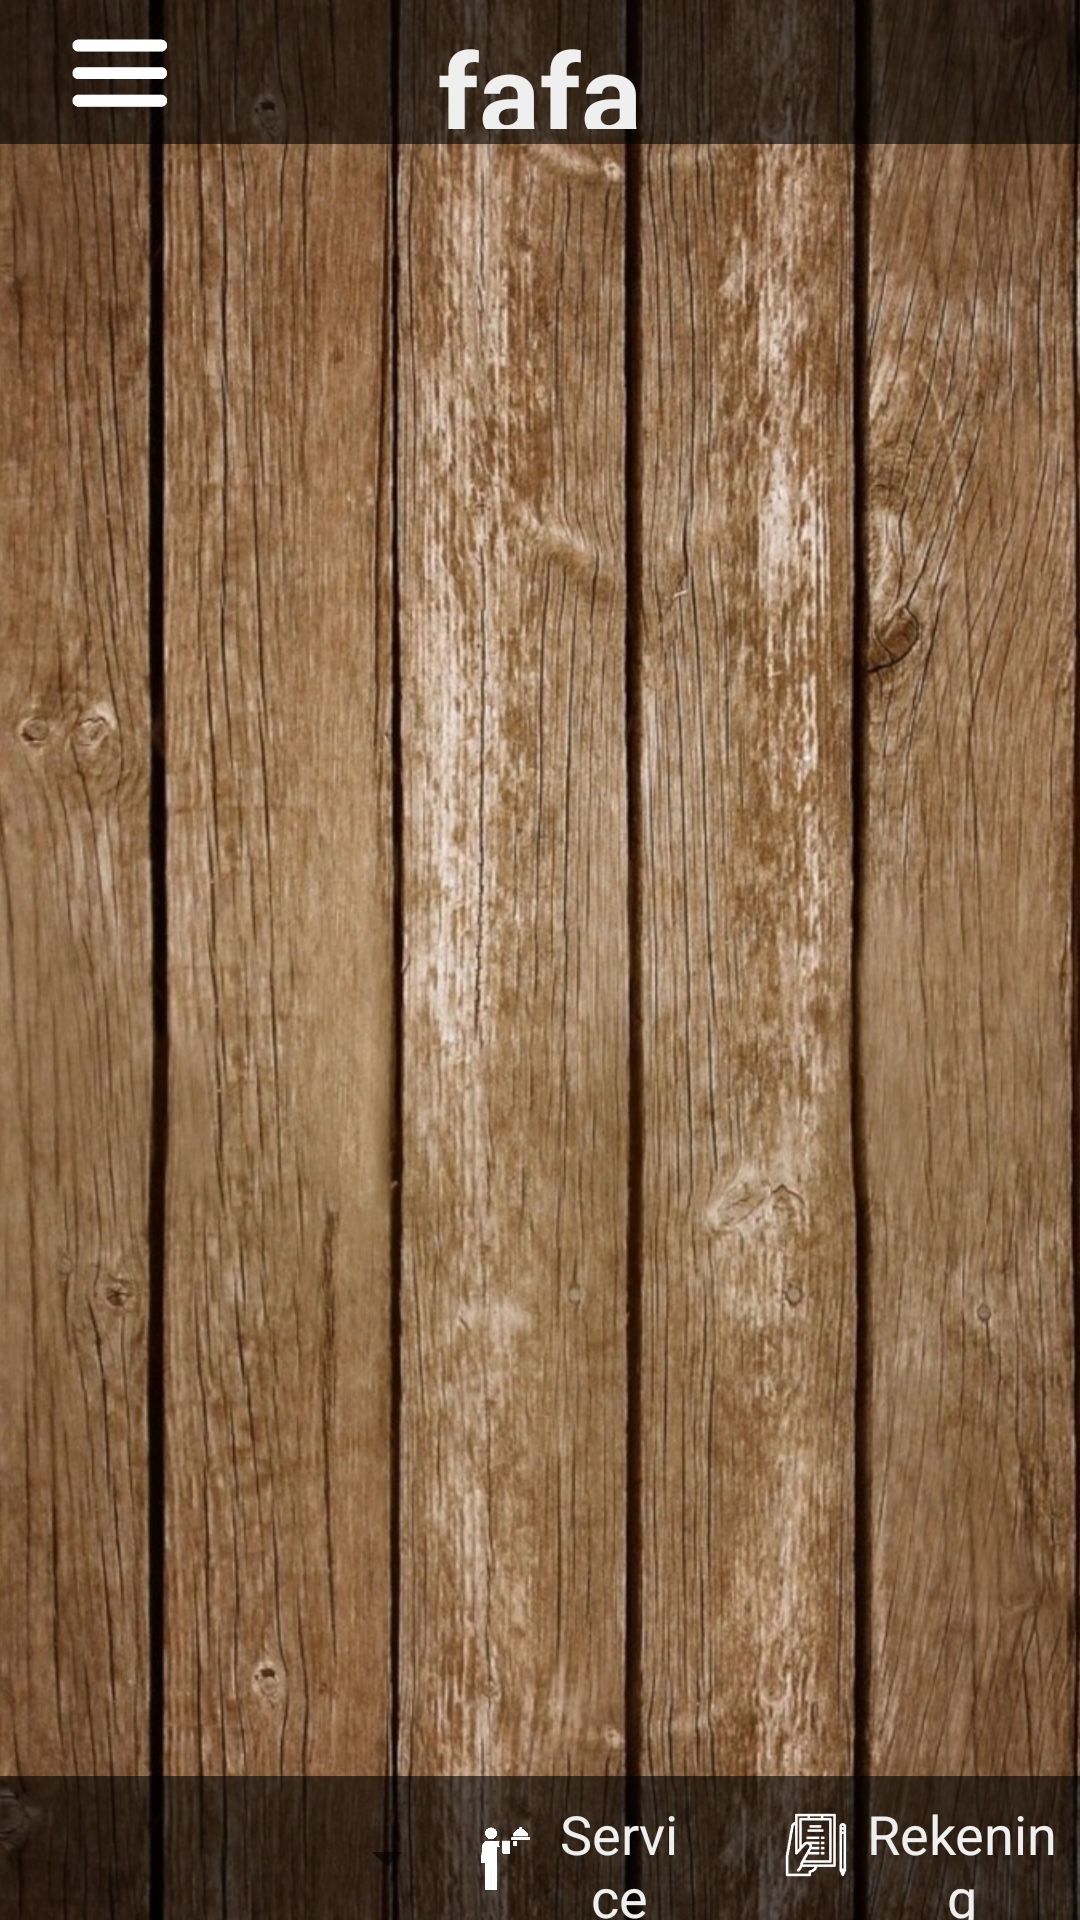

Locate icon controls on the screen. Image size 1080w x 1920h, boxes as (x1, y1, x2, y2).
ober: (459, 1797, 536, 1920)
